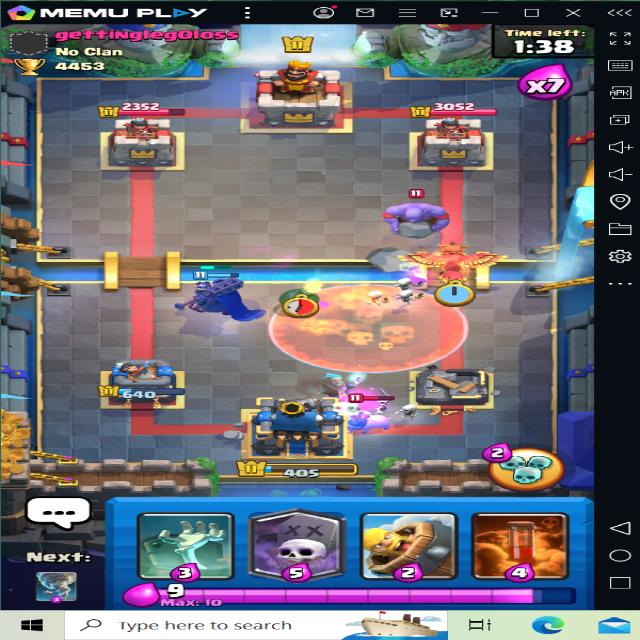Bowler: (380, 186, 453, 238)
Royalhogs: (345, 410, 400, 431)
